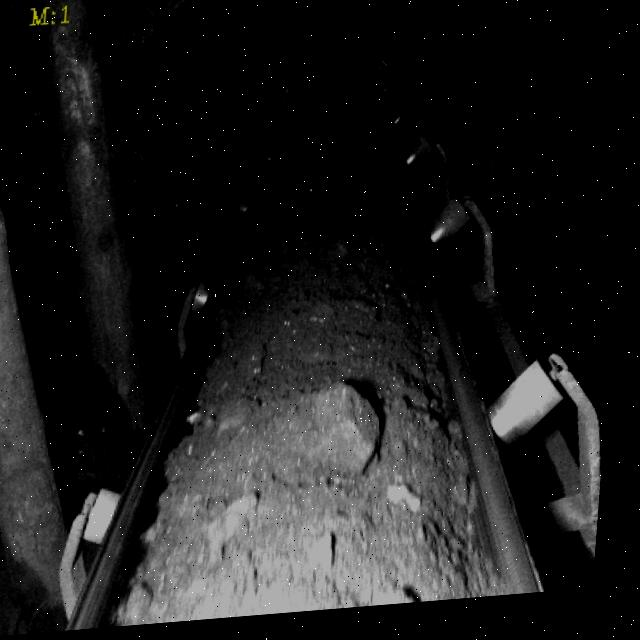large_sized_coal: (283, 385, 388, 484)
